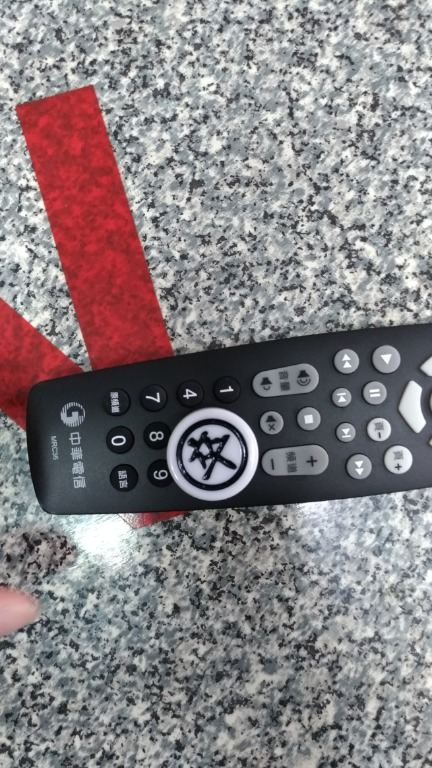b-pawn: (144, 400, 294, 512)
